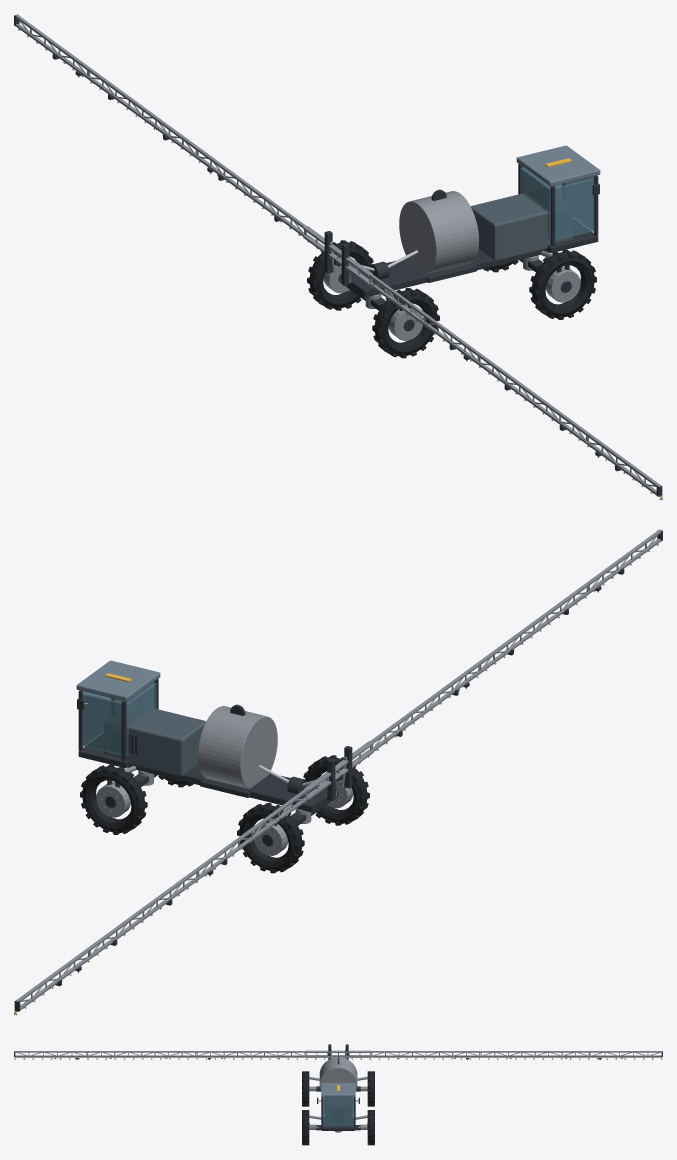
File: john-deere-r4045-structural-study.glb
3 views of the same model, one above another, from view 1: azimuth 30°, elevation 25°; view 2: azimuth 150°, elevation 25°; view 3: azimuth 270°, elevation 25° (orthographic). The views are drawn at different scales.
Visible parts, largest first — view 1: Solution_Tank_1200gal_Exterior, Engine_House, Cab_R_Glass, High_Clearance_Frame, Cab_Roof, Front_R_Tire, Rear_R_Tire, Rear_L_Tire, Cab_Rear_Glass, Front_R_Rim, Rear_R_Rim; view 2: Solution_Tank_1200gal_Exterior, Engine_House, Cab_L_Glass, High_Clearance_Frame, Cab_Roof, Front_L_Tire, Rear_L_Tire, Rear_R_Tire, Cab_Rear_Glass, Front_L_Rim; view 3: Cab_Front_Glass, Solution_Tank_1200gal_Exterior, Cab_Roof, Engine_House, Cab_Floor, Boom_L_Inner_Lower_Rail, Boom_L_Inner_Upper_Rail, Boom_L_Mid_Lower_Rail, Boom_L_Mid_Upper_Rail, Boom_R_Inner_Lower_Rail, Boom_R_Inner_Upper_Rail, Boom_R_Mid_Lower_Rail (+3 smaller).
Boxes of the visible parts, x1,y1,x2,y2 form: Solution_Tank_1200gal_Exterior: (399,191,478,273); Engine_House: (470,188,572,261); Cab_R_Glass: (555,178,594,240); High_Clearance_Frame: (341,249,549,297); Cab_Roof: (516,145,600,186); Front_R_Tire: (532,251,594,317); Rear_R_Tire: (374,290,437,356); Rear_L_Tire: (309,242,371,308); Cab_Rear_Glass: (520,167,550,240); Front_R_Rim: (546,267,580,302); Rear_R_Rim: (389,305,423,340); Solution_Tank_1200gal_Exterior: (198,706,277,788); Engine_House: (104,703,206,776); Cab_L_Glass: (82,693,121,755); High_Clearance_Frame: (127,764,335,812); Cab_Roof: (76,660,160,701); Front_L_Tire: (82,766,144,832); Rear_L_Tire: (239,805,302,871); Rear_R_Tire: (305,757,367,823); Cab_Rear_Glass: (126,682,156,755); Front_L_Rim: (96,782,130,817); Cab_Front_Glass: (323,1097,353,1126); Solution_Tank_1200gal_Exterior: (319,1057,357,1090); Cab_Roof: (321,1083,355,1097); Engine_House: (326,1101,350,1122); Cab_Floor: (322,1117,354,1130); Boom_L_Inner_Lower_Rail: (371,1055,480,1056); Boom_L_Inner_Upper_Rail: (371,1051,480,1052); Boom_L_Mid_Lower_Rail: (480,1055,589,1056); Boom_L_Mid_Upper_Rail: (480,1051,589,1052); Boom_R_Inner_Lower_Rail: (196,1055,305,1056); Boom_R_Inner_Upper_Rail: (196,1051,305,1052); Boom_R_Mid_Lower_Rail: (87,1055,196,1056).
Size of the model in its own units: 8.09 by 3.88 by 36.2.
